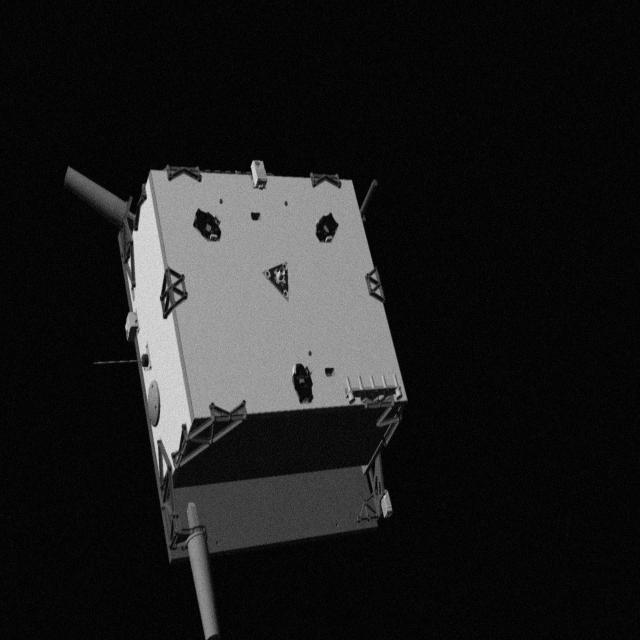medium_debris: (56, 142, 410, 640)
